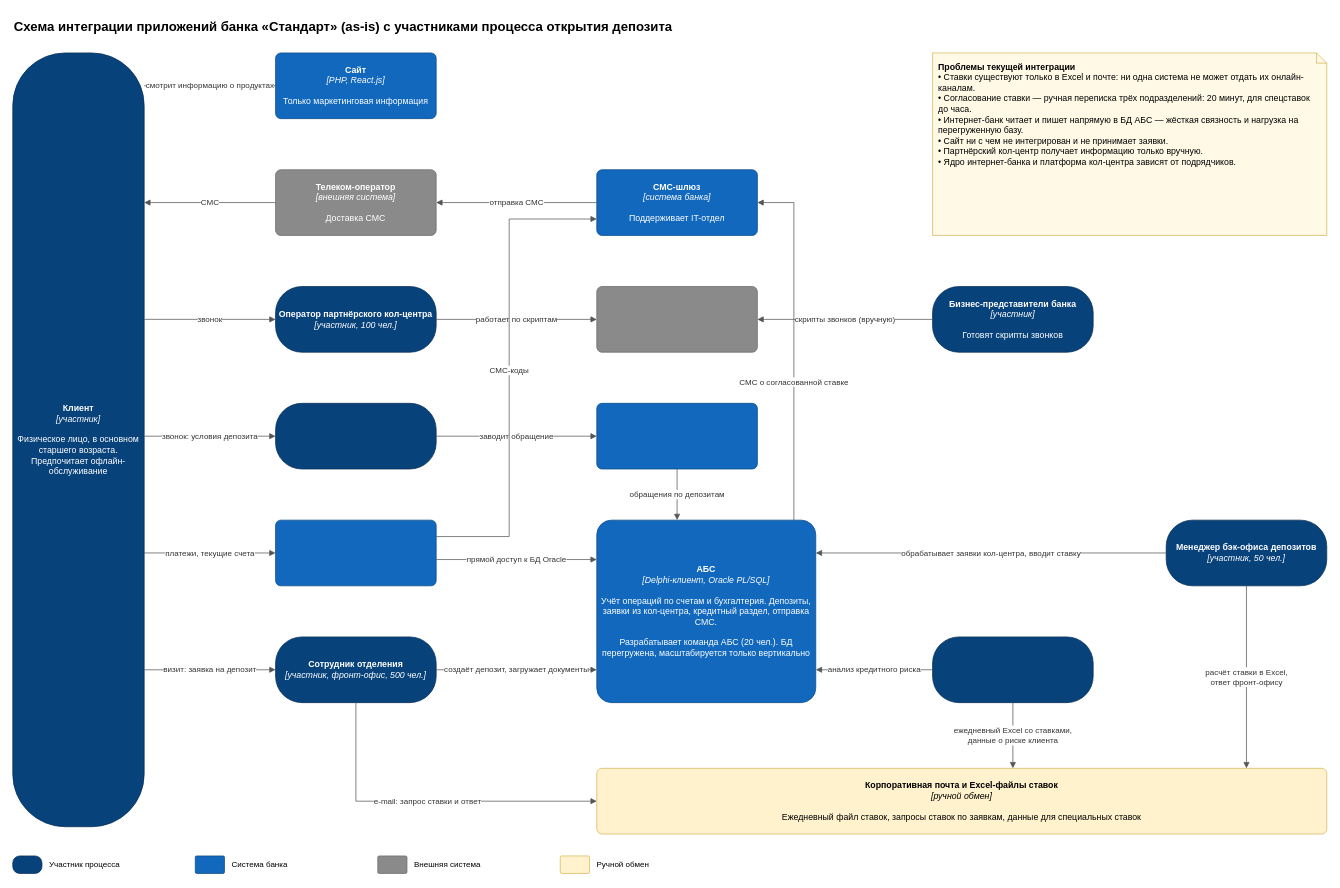
This 1340x888 diagram has some shape labels left out. The centre of each missing label's shape, as x and y in pixels:
"Интернет-банк [ASP.NET MVC 4.5, MS SQL] Платежи, текущие счета" belongs at point (355, 552).
"Менеджер бэк-офиса кредитов [участник, 50 чел.]" belongs at point (1012, 669).
"Оператор кол-центра банка [участник, 200 чел.]" belongs at point (355, 436).
"Система кол-центра [React.js, Spring Boot, PostgreSQL] Платформа подрядчика" belongs at point (676, 436).
"Система партнёрского кол-центра [внешняя система]" belongs at point (676, 319).
